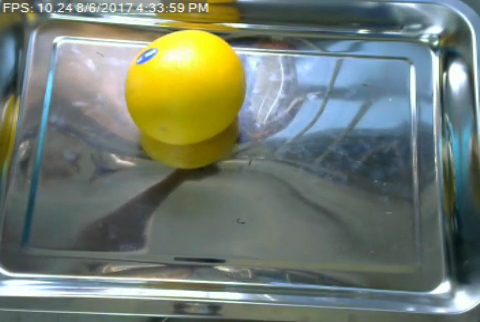Orange: (125, 31, 244, 144)
